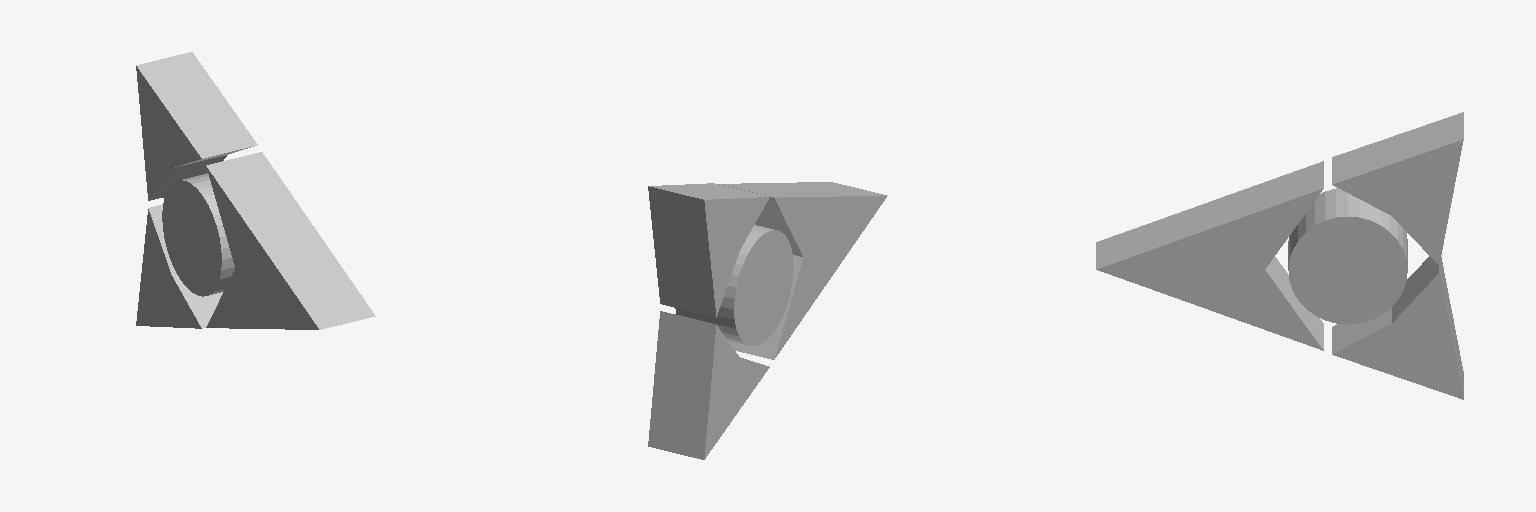
Rendered from playerModel v0.5.obj.
The picture shows the model from 3 angles: view 1: azimuth 30°, elevation 25°; view 2: azimuth 150°, elevation 25°; view 3: azimuth 270°, elevation 25°; orthographic projection.
Parts seen in each view (by area): view 1: Base_Cube.019, Base.002_Cube.030, Cylinder.001_Cylinder.002, Base.001_Cube.029; view 2: Base.001_Cube.029, Base.002_Cube.030, Base_Cube.019, Cylinder.001_Cylinder.002; view 3: Base_Cube.019, Cylinder.001_Cylinder.002, Base.002_Cube.030, Base.001_Cube.029.
Boxes of the visible parts, x1,y1,x2,y2 form: Base_Cube.019: [206, 152, 375, 329]; Base.002_Cube.030: [136, 52, 257, 200]; Cylinder.001_Cylinder.002: [162, 173, 234, 296]; Base.001_Cube.029: [136, 204, 222, 328]; Base.001_Cube.029: [648, 311, 769, 459]; Base.002_Cube.030: [648, 183, 769, 317]; Base_Cube.019: [719, 182, 887, 359]; Cylinder.001_Cylinder.002: [675, 225, 793, 346]; Base_Cube.019: [1096, 161, 1323, 350]; Cylinder.001_Cylinder.002: [1288, 188, 1407, 324]; Base.002_Cube.030: [1332, 112, 1463, 265]; Base.001_Cube.029: [1332, 256, 1463, 399].
Size of the model in its own units: 1.06 by 4.43 by 5.66.